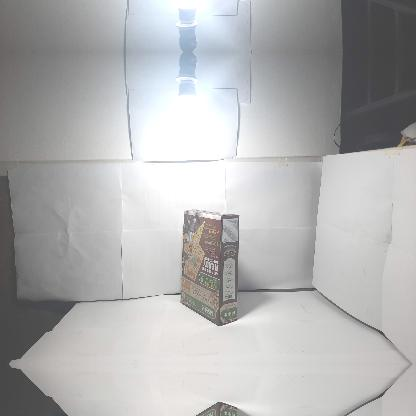Koko-Krunch: (180, 209, 240, 326)
